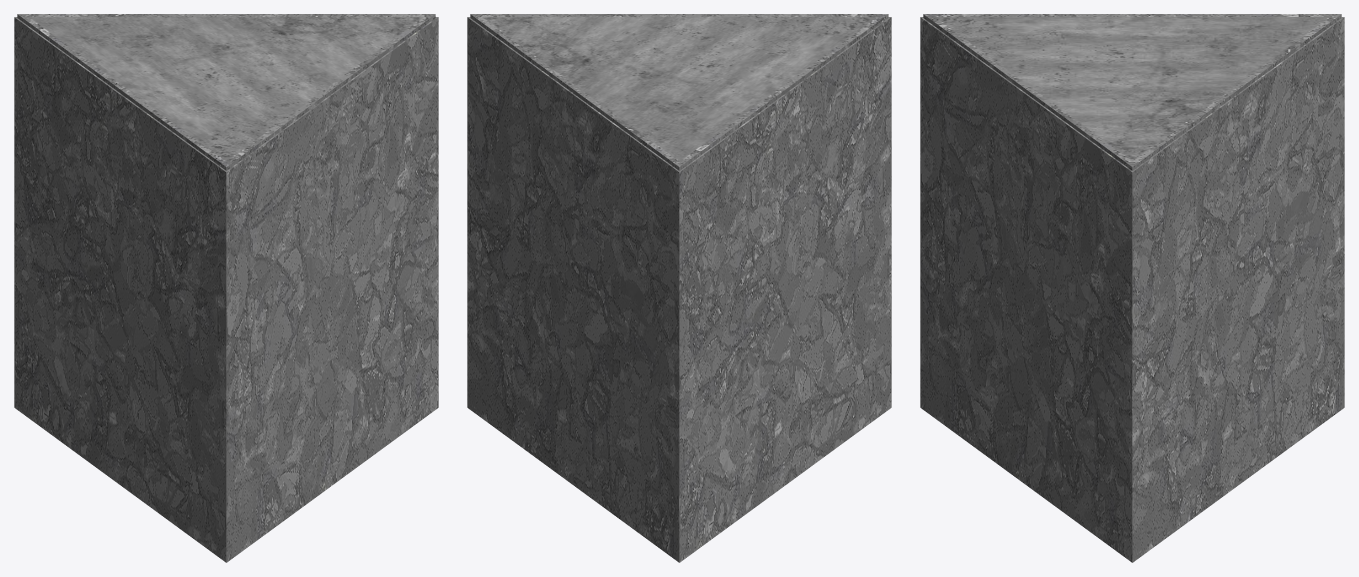
File: stone_foundation_triangle_high_textured.glb
3 views of the same model, side by side, from view 1: azimuth 30°, elevation 25°; view 2: azimuth 150°, elevation 25°; view 3: azimuth 270°, elevation 25° (orthographic).
Visible parts, largest first — view 1: Cube.001; view 2: Cube.001; view 3: Cube.001.
Boxes of the visible parts, bbox=[...] form: Cube.001: bbox=[14, 14, 438, 562]; Cube.001: bbox=[467, 14, 891, 562]; Cube.001: bbox=[920, 14, 1344, 562].
Bounding box in the file's own units: 1.73 × 2.05 × 2.
Materials: 1 (1 with a texture image).
